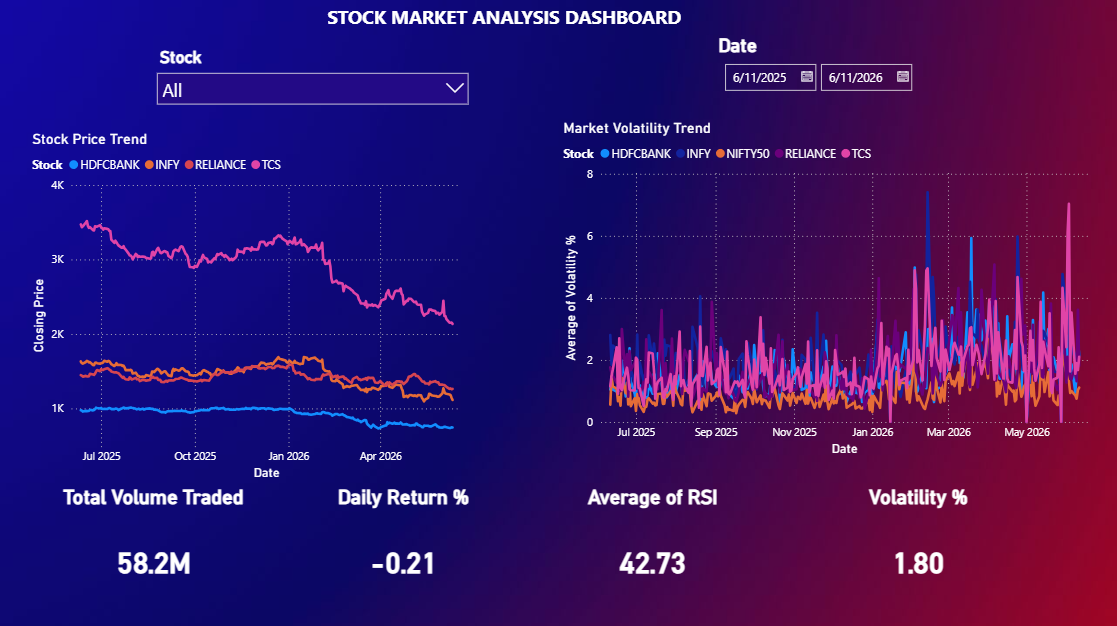

This screenshot's page, from the dashboard's own definition file:
{"tool":"powerbi","page":{"name":"Page 1","canvas":[1280,720],"ordinal":0},"visuals":[{"type":"lineChart","title":"Stock Price Trend","fields":{"Category":["Sheet1.Date"],"Series":["Sheet1.Stock"],"Y":["Sum(Sheet1.Close)"]},"box":[32.9,150,515.7,404.3],"z":0},{"type":"textbox","box":[370,0,430,150],"z":1000},{"type":"slicer","fields":{"Values":["Sheet1.Stock"]},"box":[176,56,366,66],"z":2000},{"type":"lineChart","title":"Market Volatility Trend","fields":{"Y":["Avg(Sheet1.Volatility %)"],"Series":["Sheet1.Stock"],"Category":["Sheet1.Date"]},"box":[640,137.1,625.7,390],"z":3000},{"type":"kpi","title":"Total Volume Traded","fields":{"Indicator":["Sum(Sheet1.Volume)"],"TrendLine":["Sheet1.Date"]},"box":[61.4,555.7,230,150],"z":4000},{"type":"kpi","title":"Daily Return % ","fields":{"Indicator":["Avg(Sheet1.Daily Return %)"],"TrendLine":["Sheet1.Stock"]},"box":[358.6,555.7,207.1,150],"z":5000},{"type":"kpi","title":"Average of RSI","fields":{"Indicator":["Avg(Sheet1.RSI)"],"TrendLine":["Sheet1.Stock"]},"box":[640,555.7,214.3,150],"z":6000},{"type":"slicer","title":"Date","fields":{"Values":["Sheet1.Date"]},"box":[817.1,40,317.1,97.1],"z":7000},{"type":"kpi","title":"Volatility %","fields":{"TrendLine":["Sheet1.Stock"],"Indicator":["Avg(Sheet1.Volatility %)"]},"box":[912.9,555.7,275.7,150],"z":8000}]}

Visuals, with their boxes in screenshot pixels (x1, y1, x2, y2), scaled from the page's 1280x720 canvas onto the 1117x626 screenshot:
"Stock Price Trend" lineChart: x1=29 y1=130 x2=479 y2=482
textbox: x1=323 y1=0 x2=698 y2=130
slicer - Sheet1.Stock: x1=154 y1=49 x2=473 y2=106
"Market Volatility Trend" lineChart: x1=558 y1=119 x2=1105 y2=458
"Total Volume Traded" kpi: x1=54 y1=483 x2=254 y2=614
"Daily Return % " kpi: x1=313 y1=483 x2=494 y2=614
"Average of RSI" kpi: x1=558 y1=483 x2=746 y2=614
"Date" slicer: x1=713 y1=35 x2=990 y2=119
"Volatility %" kpi: x1=797 y1=483 x2=1037 y2=614
